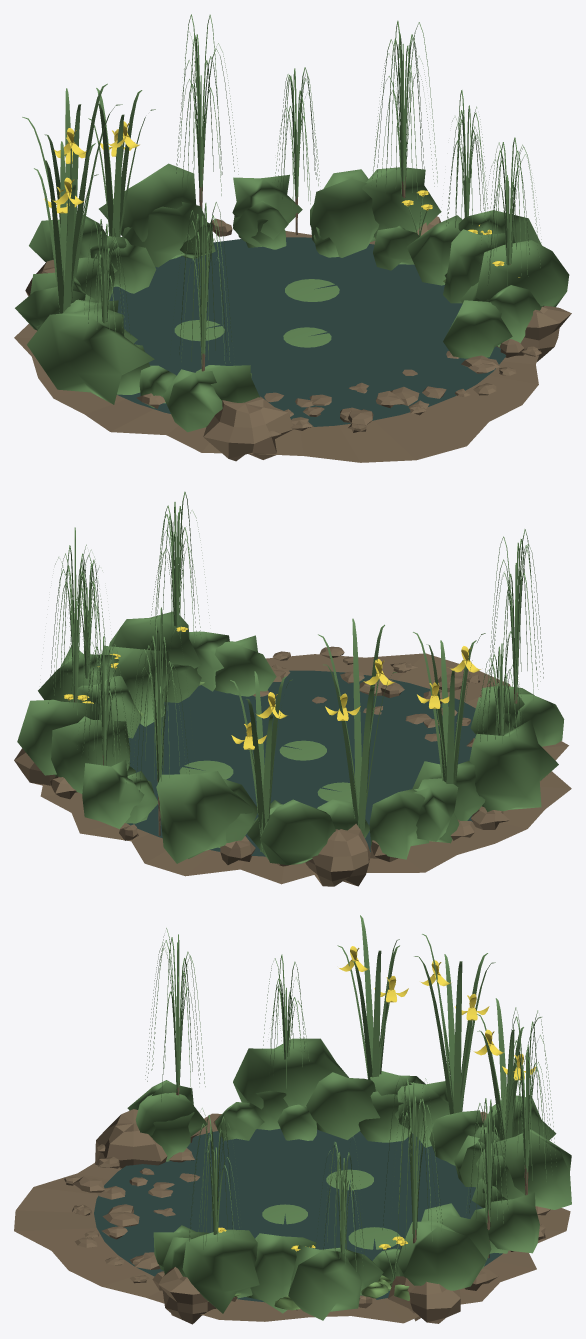
The model's file is wildlife-pond-v1.glb.
The picture shows the model from 3 angles, top to bottom: view 1: azimuth 30°, elevation 25°; view 2: azimuth 150°, elevation 25°; view 3: azimuth 270°, elevation 25°; orthographic projection. The views are drawn at different scales.
Visible parts, largest first — view 1: beach, water; view 2: beach, water; view 3: beach, water.
Boxes of the visible parts, <box> form: beach: <box>14,14,571,462</box>; water: <box>109,237,505,426</box>; beach: <box>14,491,571,886</box>; water: <box>127,670,475,856</box>; beach: <box>14,915,571,1324</box>; water: <box>94,1128,502,1302</box>.
Bounding box in the file's own units: 1.33 × 0.6575 × 1.37.
Materials: 2 (2 with a texture image).
